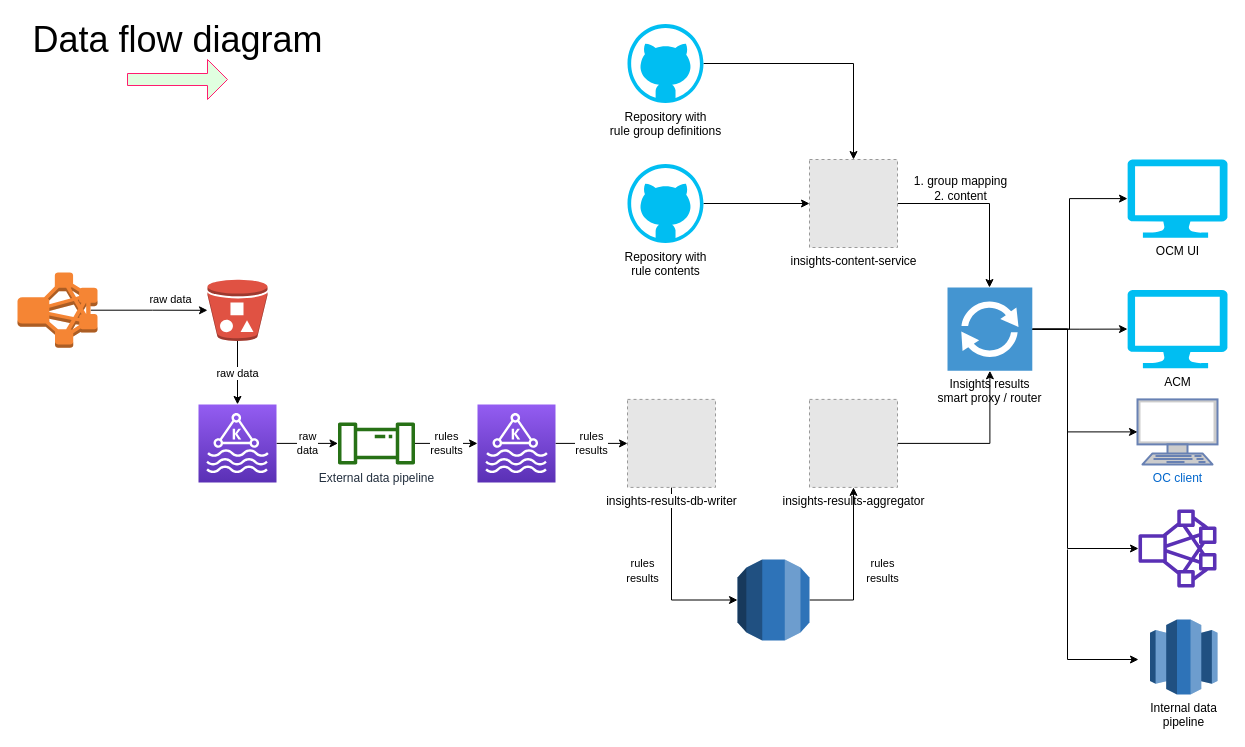
The diagram is 1245 pixels wide and 747 high, and some of its shapes have lost their labels. Grey dashed boxes stand in for pictures. The shapes that lost their labels are listed below. From the top down, each one's centre as x and y in pixels, then its label:
At (x=57, y=310): "Customer's cluster".
At (x=237, y=442): "Kafka broker on cloud.redhat.com with notifications".
At (x=516, y=442): "Kafka broker on cloud.redhat.com to store insights-rules-results".
At (x=1177, y=548): "Insights operator".
At (x=773, y=599): "RDS storage".
